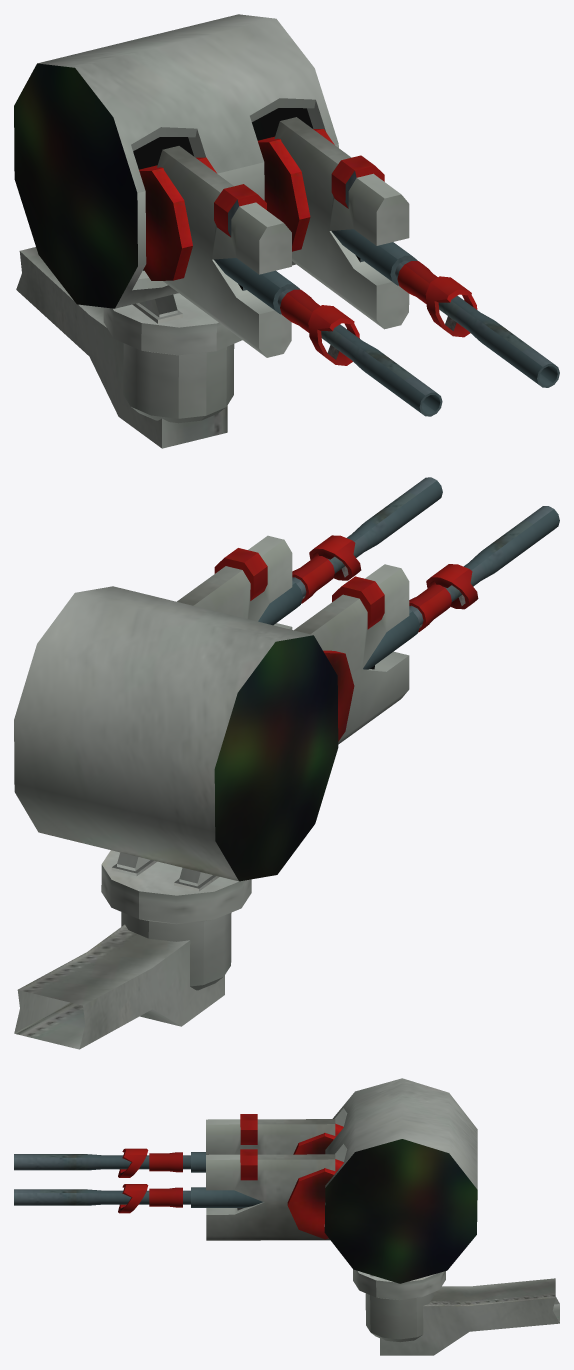
Rendered from Gun_Base1.fbx.
The picture shows the model from 3 angles, top to bottom: view 1: azimuth 30°, elevation 25°; view 2: azimuth 150°, elevation 25°; view 3: azimuth 270°, elevation 25°; orthographic projection. The views are drawn at different scales.
Visible parts, largest first — view 1: Gun_Head, Gun_Base, Gun_BarrelR, Gun_BarrelL, Gun_L_Single, Gun_R_Single; view 2: Gun_Head, Gun_Base, Gun_BarrelR, Gun_R_Single, Gun_L_Single, Gun_BarrelL; view 3: Gun_Head, Gun_Base, Gun_BarrelL, Gun_BarrelR, Gun_L_Single, Gun_R_Single.
Part boxes in pixels (x1,y1,x2,y2): Gun_Head: (14,14,338,308); Gun_Base: (16,247,242,448); Gun_BarrelR: (139,146,291,357); Gun_BarrelL: (258,117,409,329); Gun_L_Single: (331,229,559,387); Gun_R_Single: (214,258,442,416); Gun_Head: (14,586,338,881); Gun_Base: (14,850,251,1049); Gun_BarrelR: (294,564,409,744); Gun_R_Single: (363,506,559,669); Gun_L_Single: (258,477,442,625); Gun_BarrelL: (177,535,292,629); Gun_Head: (324,1078,477,1283); Gun_Base: (353,1269,559,1355); Gun_BarrelL: (206,1149,343,1240); Gun_BarrelR: (206,1114,343,1154); Gun_L_Single: (14,1184,263,1213); Gun_R_Single: (14,1148,205,1177).
Size of the model in its own units: 48.53 by 79.47 by 166.
